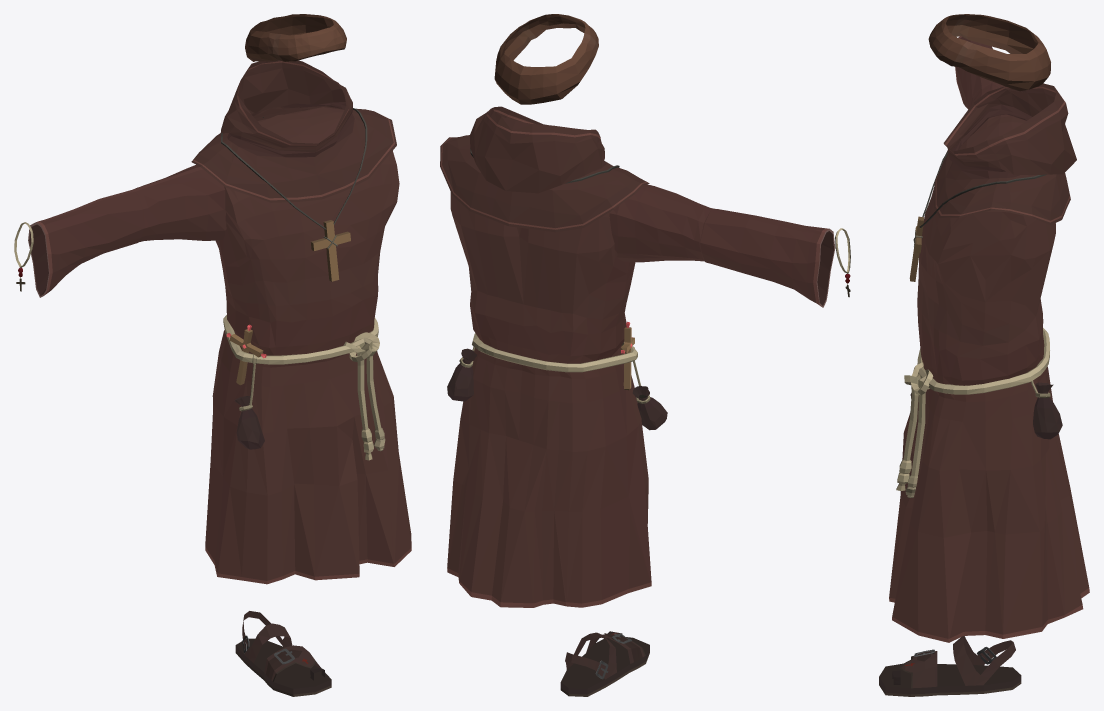
The model's file is monk.glb.
3 views of the same model, side by side, from view 1: azimuth 30°, elevation 25°; view 2: azimuth 150°, elevation 25°; view 3: azimuth 270°, elevation 25° (orthographic). The views are drawn at different scales.
Visible parts, largest first — view 1: monkRopeBody, monkRopeLowerArm, monkRopeUpperArm, monkSandles, monkHair; view 2: monkRopeBody, monkRopeLowerArm, monkRopeUpperArm, monkHair, monkSandles; view 3: monkRopeBody, monkHair, monkSandles, monkRopeLowerArm.
Boxes of the visible parts, left/top/right/bottom form: monkRopeBody: left=191, top=60, right=411, bottom=584; monkRopeLowerArm: left=28, top=190, right=144, bottom=297; monkRopeUpperArm: left=132, top=165, right=226, bottom=242; monkSandles: left=235, top=611, right=331, bottom=696; monkHair: left=245, top=14, right=346, bottom=61; monkRopeBody: left=440, top=106, right=667, bottom=607; monkRopeLowerArm: left=699, top=209, right=835, bottom=307; monkRopeUpperArm: left=609, top=184, right=714, bottom=262; monkHair: left=494, top=14, right=598, bottom=104; monkSandles: left=560, top=631, right=649, bottom=696; monkRopeBody: left=889, top=83, right=1089, bottom=642; monkHair: left=928, top=14, right=1050, bottom=91; monkSandles: left=879, top=636, right=1021, bottom=696; monkRopeLowerArm: left=955, top=36, right=1004, bottom=109.
Size of the model in its own units: 1.22 by 1.93 by 0.5417.
